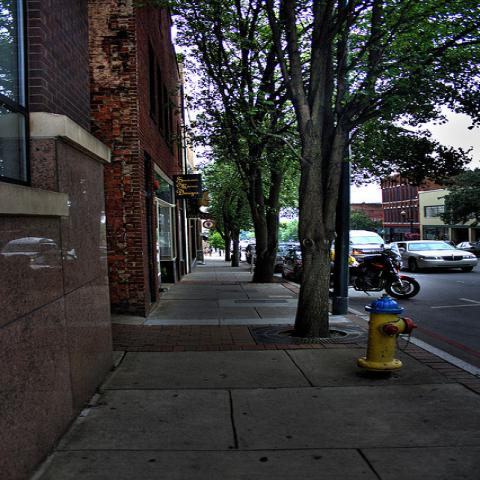car: (393, 239, 476, 272), (332, 230, 392, 260), (250, 243, 302, 273), (280, 250, 302, 283), (454, 241, 479, 250), (444, 241, 456, 246)
motorcycle: (348, 243, 422, 297)
